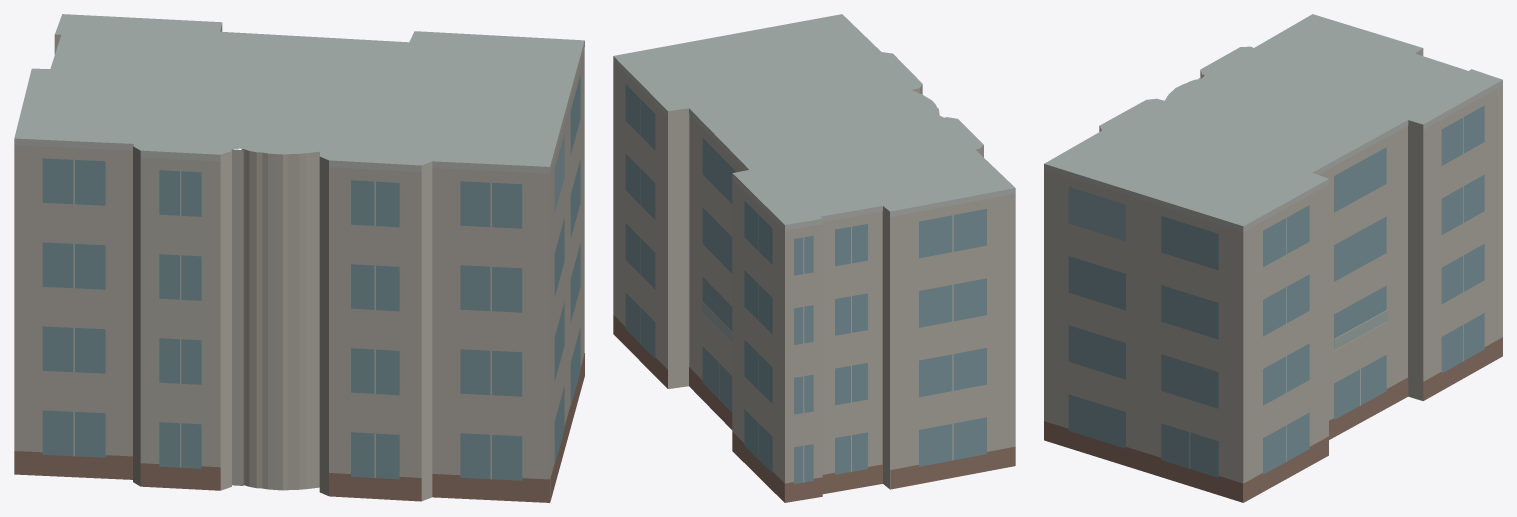
Rendered from survey-upis-32630878.glb.
The picture shows the model from 3 angles, left to right: view 1: azimuth 30°, elevation 25°; view 2: azimuth 150°, elevation 25°; view 3: azimuth 270°, elevation 25°; orthographic projection. The views are drawn at different scales.
Parts seen in each view (by area): view 1: survey-upis-32630878.tmp; view 2: survey-upis-32630878.tmp; view 3: survey-upis-32630878.tmp.
Part boxes in pixels (<box>): survey-upis-32630878.tmp: <box>14,14,584,502</box>; survey-upis-32630878.tmp: <box>613,14,1015,502</box>; survey-upis-32630878.tmp: <box>1044,14,1502,502</box>.
Size of the model in its own units: 20.09 by 12.2 by 18.35.
